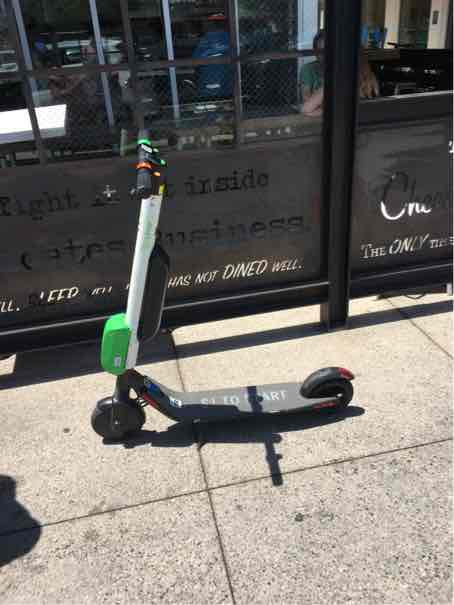scooter: (85, 107, 368, 447)
